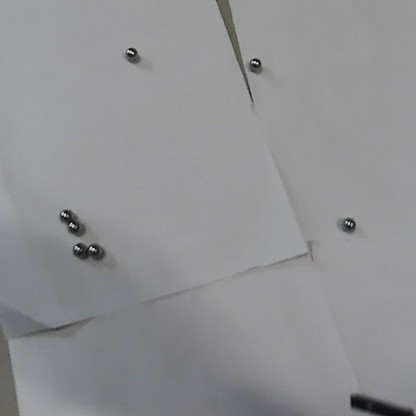ironball: (86, 239, 104, 261), (341, 216, 357, 233), (58, 206, 75, 222), (247, 55, 263, 71), (69, 239, 84, 256), (124, 46, 139, 61), (67, 219, 82, 234)
